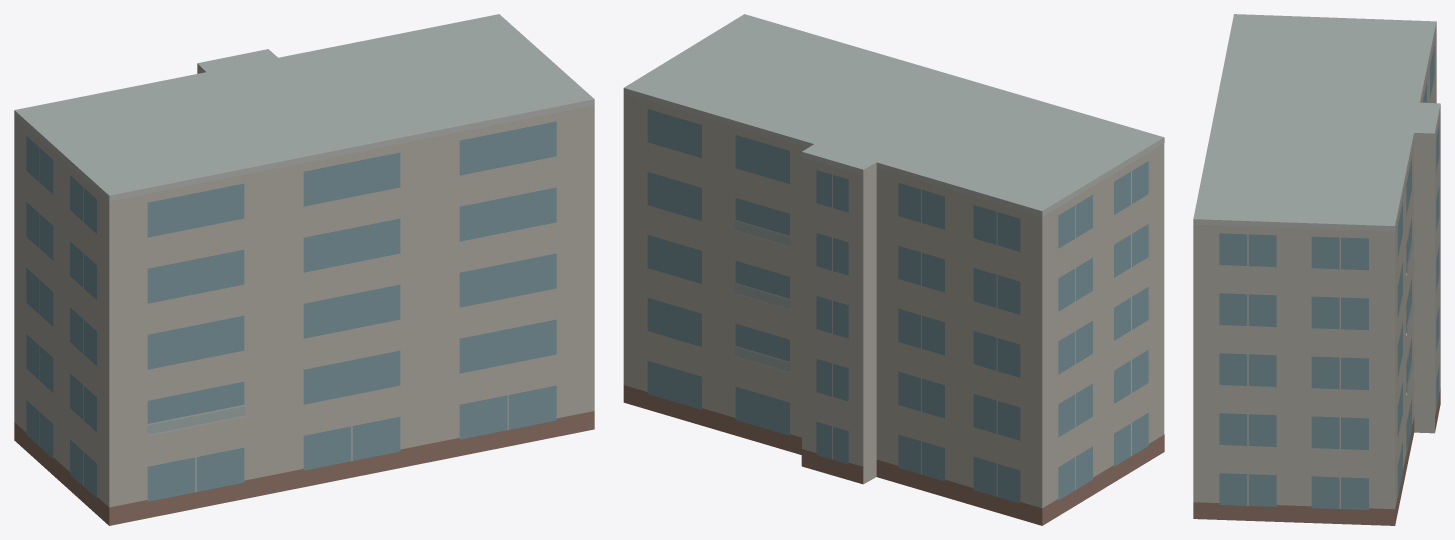
File: survey-upis-32834948.glb
The picture shows the model from 3 angles, left to right: view 1: azimuth 30°, elevation 25°; view 2: azimuth 150°, elevation 25°; view 3: azimuth 270°, elevation 25°; orthographic projection. The views are drawn at different scales.
Parts seen in each view (by area): view 1: survey-upis-32834948.tmp; view 2: survey-upis-32834948.tmp; view 3: survey-upis-32834948.tmp.
Boxes of the visible parts, x1,y1,x2,y2 form: survey-upis-32834948.tmp: (14, 14, 594, 525); survey-upis-32834948.tmp: (623, 14, 1164, 525); survey-upis-32834948.tmp: (1193, 14, 1440, 525).
Size of the model in its own units: 20.42 by 13.45 by 10.07.
